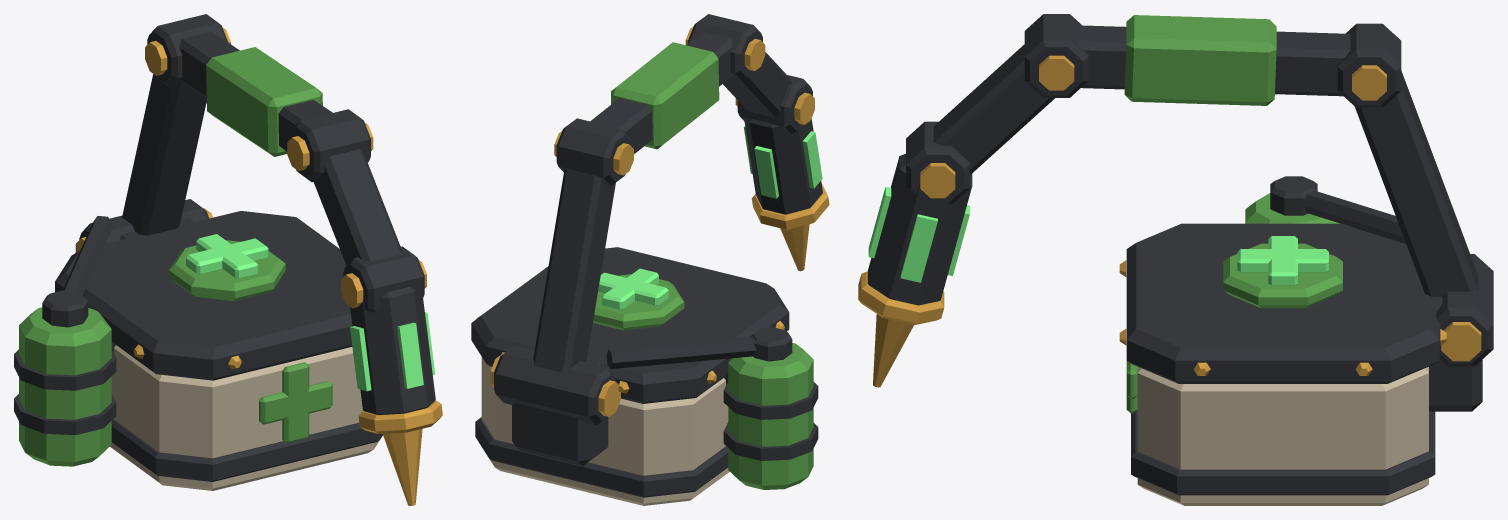
The model's file is MenderB.obj.
3 views of the same model, side by side, from view 1: azimuth 30°, elevation 25°; view 2: azimuth 150°, elevation 25°; view 3: azimuth 270°, elevation 25° (orthographic). The views are drawn at different scales.
Visible parts, largest first — view 1: MenderB; view 2: MenderB; view 3: MenderB.
Part boxes in pixels (x1,y1,x2,y2): MenderB: (14, 14, 442, 505); MenderB: (471, 14, 829, 505); MenderB: (858, 14, 1493, 505).
Size of the model in its own units: 0.9958 by 1.1 by 1.51.
